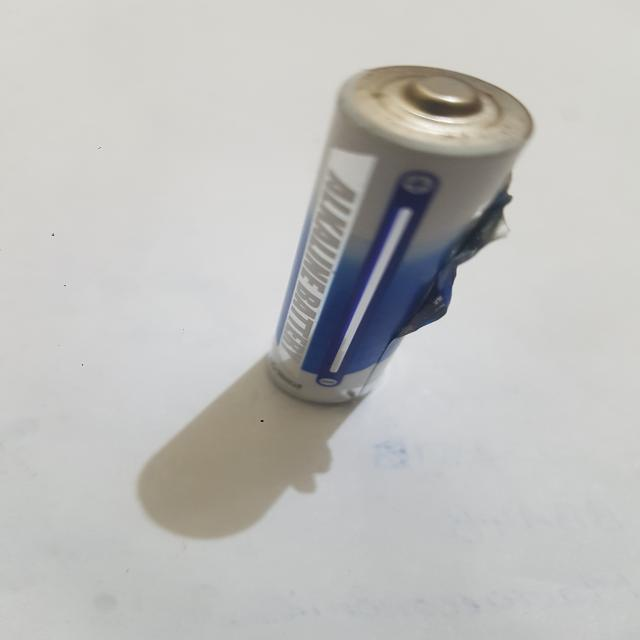electronic: (206, 30, 558, 447)
